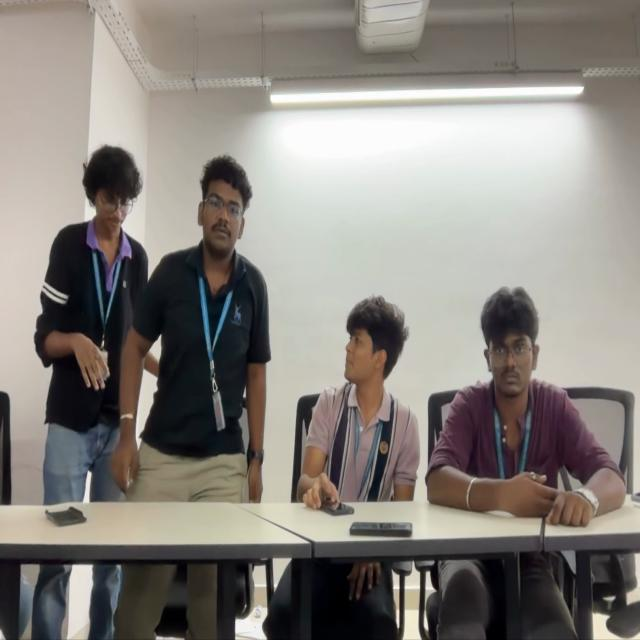Isolated: (431, 287, 625, 521), (299, 295, 419, 504)
socializing: (37, 142, 265, 500)
